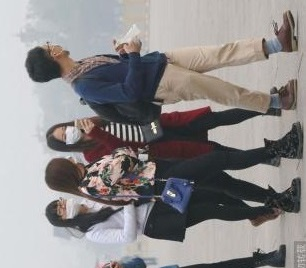person: (25, 10, 301, 110), (37, 151, 304, 206), (44, 110, 282, 158), (38, 194, 284, 236)
